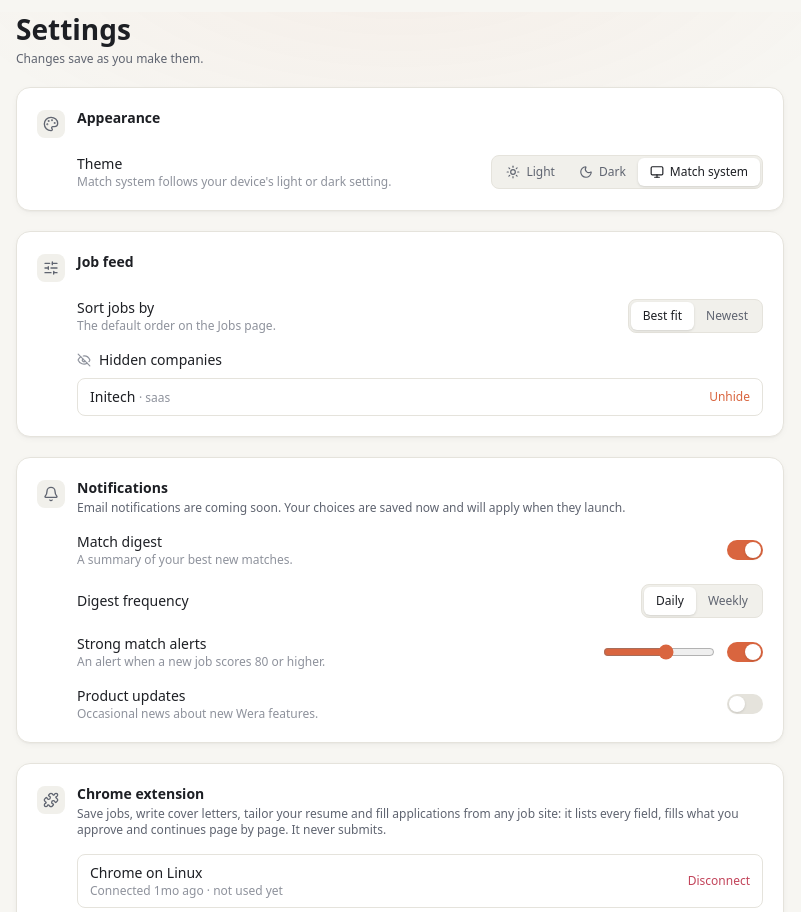
Test: SettingsPage: Chrome extension › lists connected browsers and disconnects one
The image size is (801, 912).
Check: the text "Chrome on Linux" is shown, box [90,863,202,882]
Check: the text "Connected 1mo ago · not used yet" is shown, box [213,882,283,899]
Step 1. Click the button "Disconnect" → click(719, 881), box [688,873,750,889]
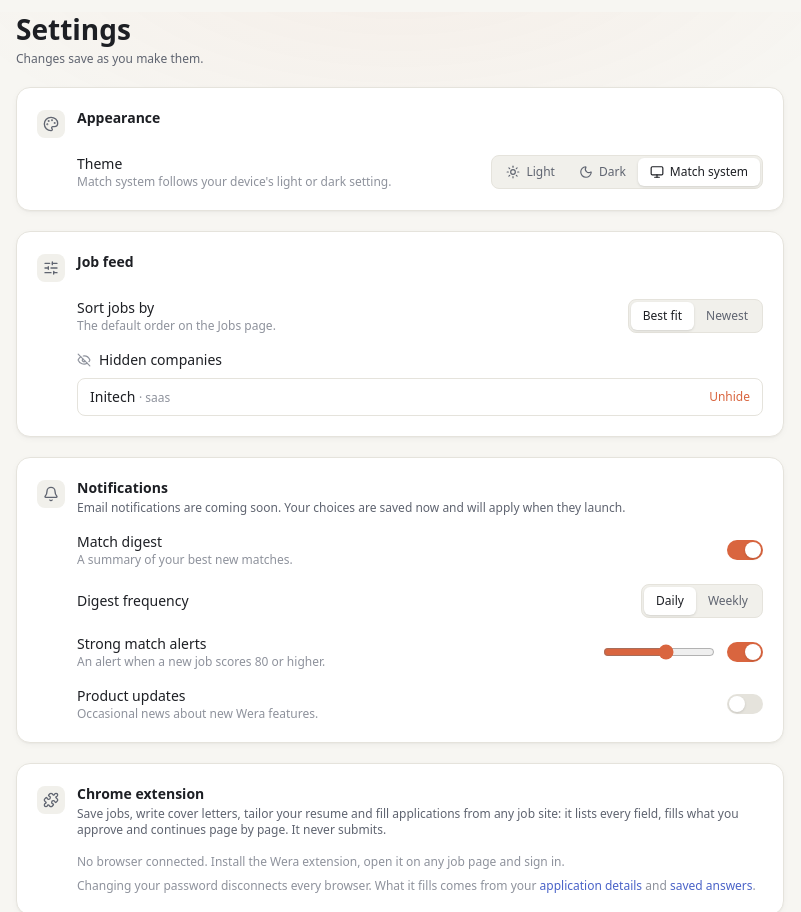
Check: the text "No browser connected" is shown, box [77,853,565,870]
